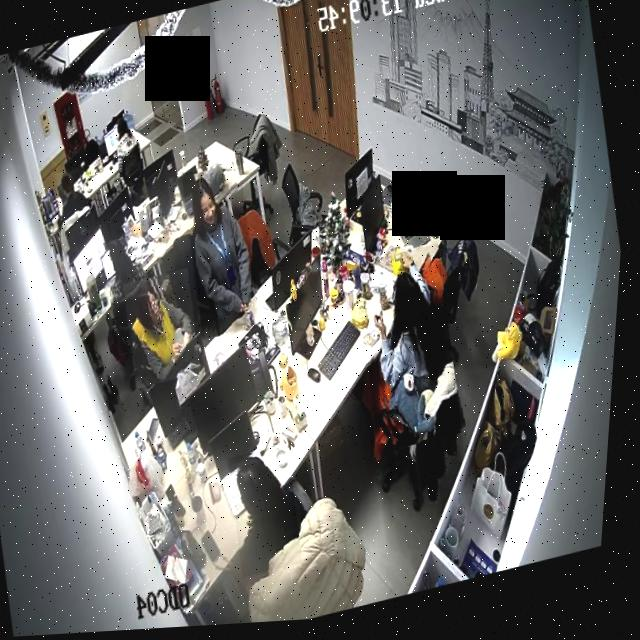person: (348, 247, 479, 461), (176, 162, 274, 344), (228, 446, 317, 582), (122, 269, 212, 391), (103, 235, 155, 306), (54, 167, 96, 223), (112, 114, 143, 160)
